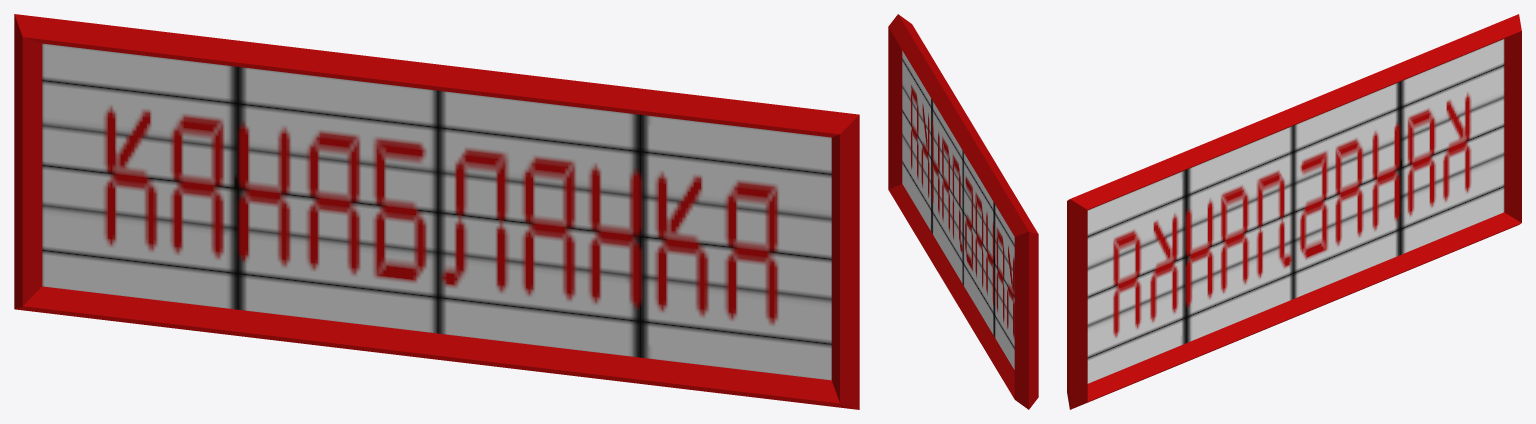
The model's file is Schild_Casablanca_1977.glb.
3 views of the same model, side by side, from view 1: azimuth 30°, elevation 25°; view 2: azimuth 150°, elevation 25°; view 3: azimuth 270°, elevation 25° (orthographic). The views are drawn at different scales.
Parts seen in each view (by area): view 1: pPlaneShape13, pTorusShape1ww; view 2: pTorusShape1ww, pPlaneShape13; view 3: pPlaneShape13, pTorusShape1ww.
Part boxes in pixels (x1=…): pPlaneShape13: x1=42, y1=43, x2=831, y2=380; pTorusShape1ww: x1=14, y1=14, x2=859, y2=409; pTorusShape1ww: x1=888, y1=14, x2=1038, y2=409; pPlaneShape13: x1=902, y1=51, x2=1014, y2=369; pPlaneShape13: x1=1087, y1=39, x2=1504, y2=383; pTorusShape1ww: x1=1067, y1=14, x2=1521, y2=409.
Size of the model in its own units: 0.5487 by 0.2875 by 0.5615.
2 materials, 1 textured.
